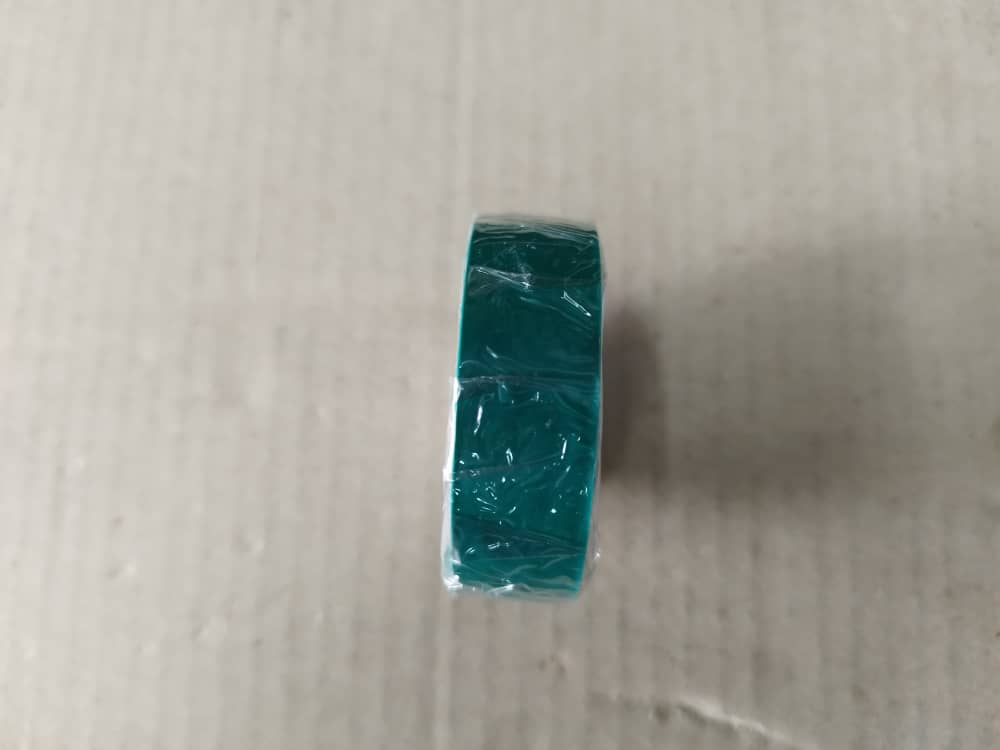sku_electrical_tape: (444, 205, 605, 605)
